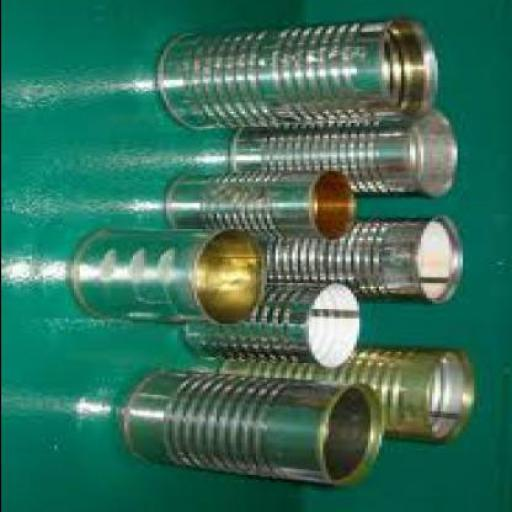metal: (120, 368, 386, 492), (160, 21, 442, 134), (218, 341, 472, 447), (226, 110, 462, 203), (258, 216, 467, 310), (70, 229, 272, 324), (185, 285, 364, 372), (165, 170, 361, 244)
